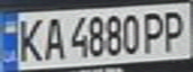0: (121, 10, 145, 56)
4: (66, 12, 90, 60)
8: (103, 11, 127, 57), (84, 12, 106, 59)
A: (39, 14, 66, 62)
K: (12, 15, 48, 64)
P: (157, 7, 193, 53), (139, 8, 172, 54)
